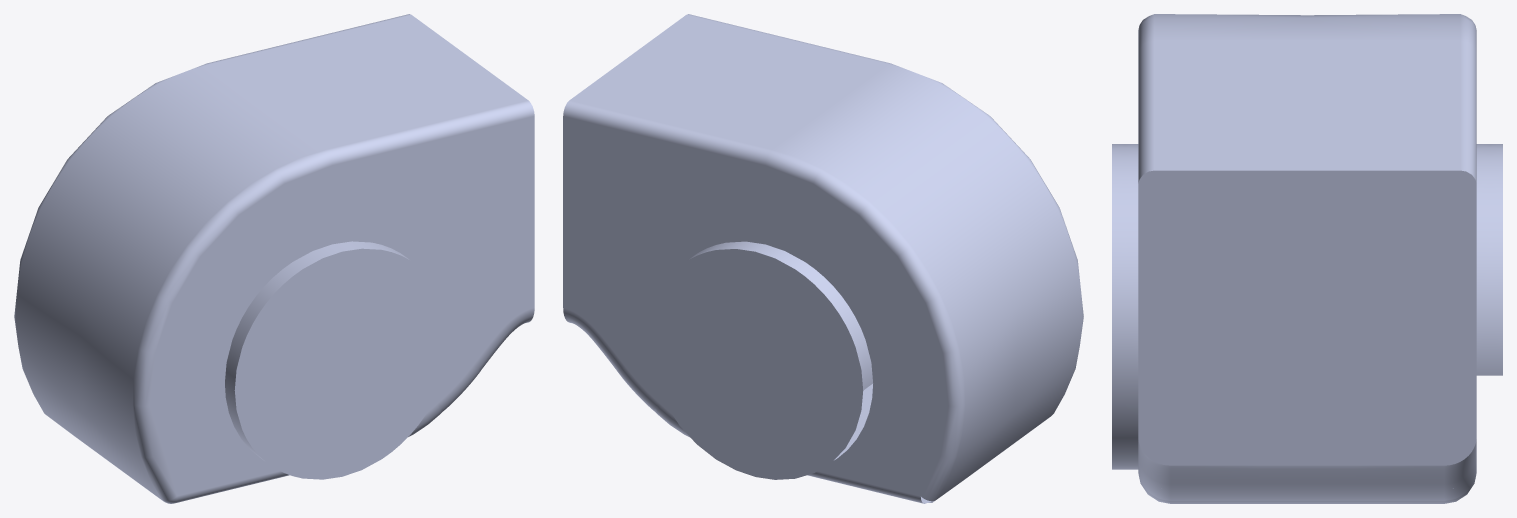
3 views of the same model, side by side, from view 1: azimuth 30°, elevation 25°; view 2: azimuth 150°, elevation 25°; view 3: azimuth 270°, elevation 25° (orthographic). The views are drawn at different scales.
Visible parts, largest first — view 1: a191ee86-c495-451d-a02a-b129bd34d055; view 2: a191ee86-c495-451d-a02a-b129bd34d055; view 3: a191ee86-c495-451d-a02a-b129bd34d055.
Boxes of the visible parts, x1,y1,x2,y2 form: a191ee86-c495-451d-a02a-b129bd34d055: [14, 14, 534, 503]; a191ee86-c495-451d-a02a-b129bd34d055: [563, 14, 1083, 503]; a191ee86-c495-451d-a02a-b129bd34d055: [1112, 14, 1502, 503].
Size of the model in its own units: 0.184 by 0.12 by 0.14.
